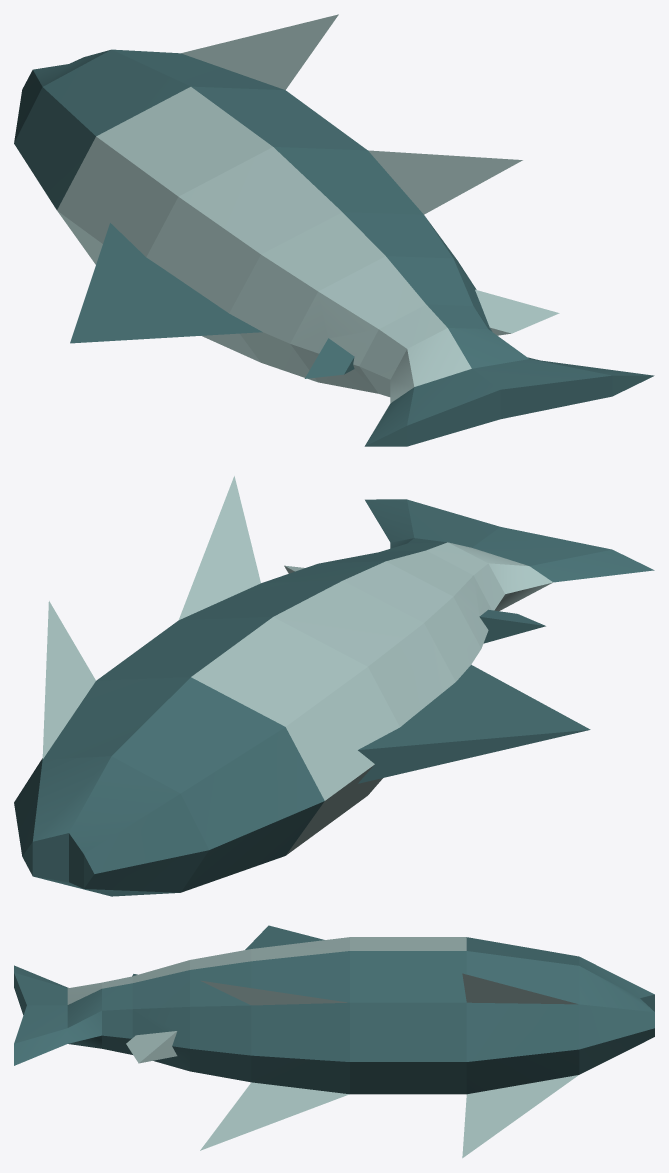
Rendered from herring.glb.
3 renders of one model, top to bottom at view 1: azimuth 30°, elevation 25°; view 2: azimuth 150°, elevation 25°; view 3: azimuth 270°, elevation 25°, orthographic. The views are drawn at different scales.
Parts seen in each view (by area): view 1: herring; view 2: herring; view 3: herring.
Part boxes in pixels (x1,y1,x2,y2): herring: [14, 14, 654, 446]; herring: [14, 476, 654, 896]; herring: [14, 925, 654, 1158].
Size of the model in its own units: 0.3222 by 0.1978 by 0.6208.
